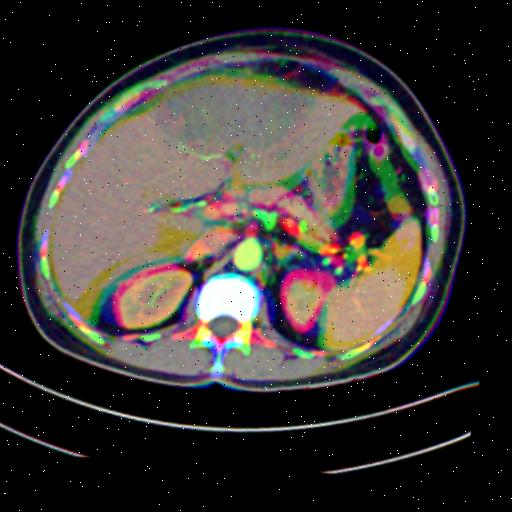Abscess: (155, 81, 314, 153)
